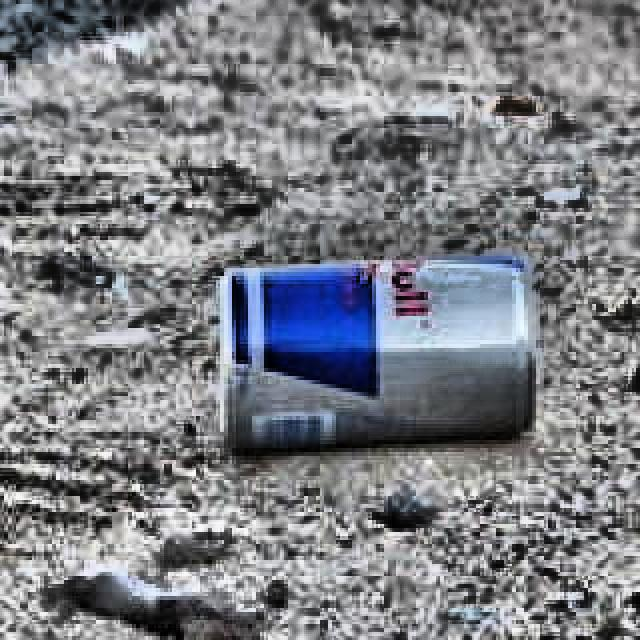metal: (216, 254, 540, 458)
